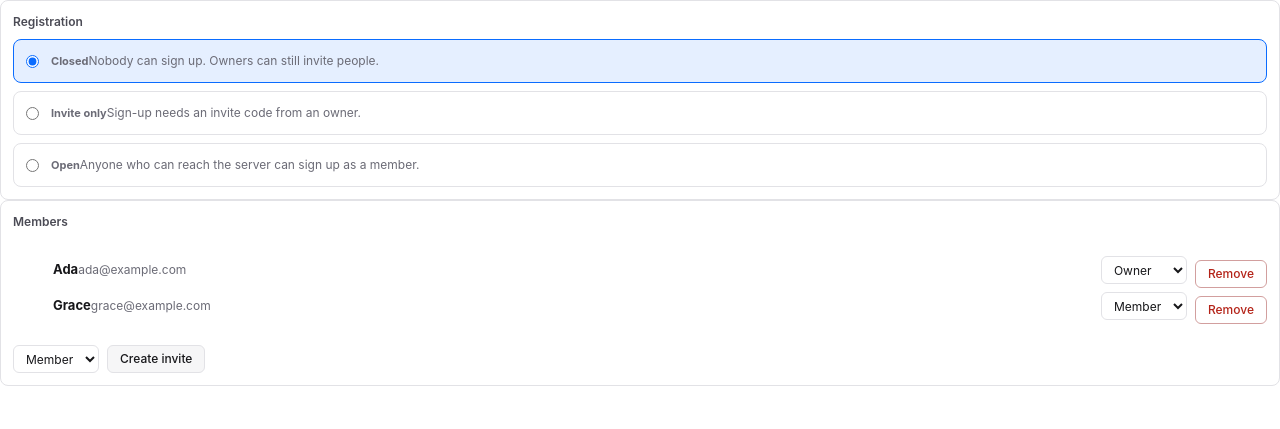
Test: Members › shows why the server refused a change
What coordinates should you click on to do the following:
click the button with aria-label "Remove Ada"
I would click on:
 (1231, 274)
Its box is [1195,260,1267,288].
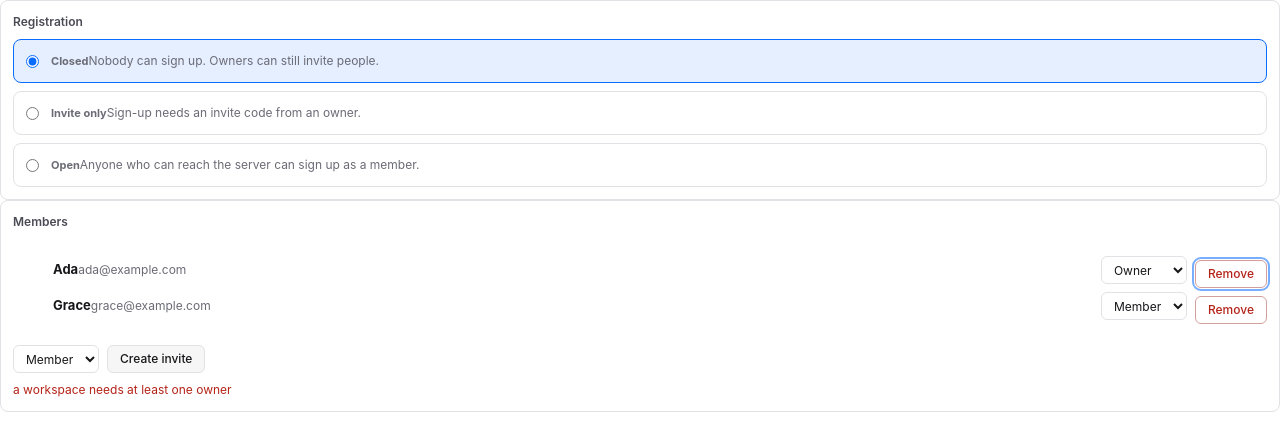
Check: the message reads "a workspace needs at least one owner", box [13,382,232,397]
